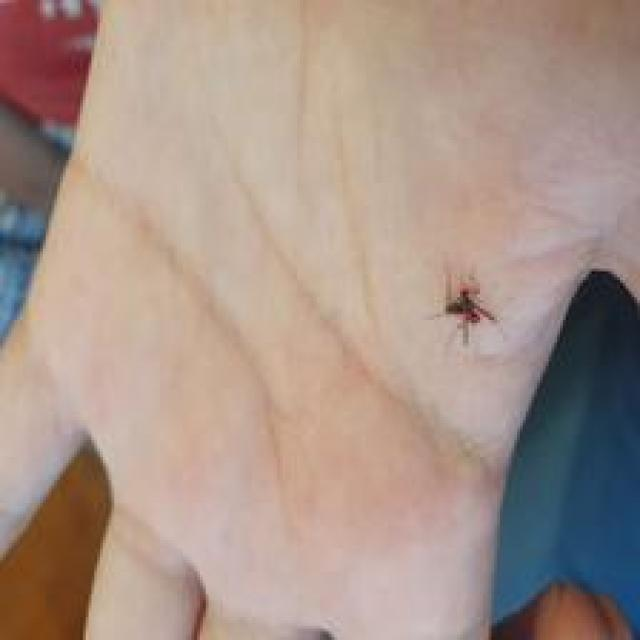Aedes albopictus: (431, 270, 500, 347)
